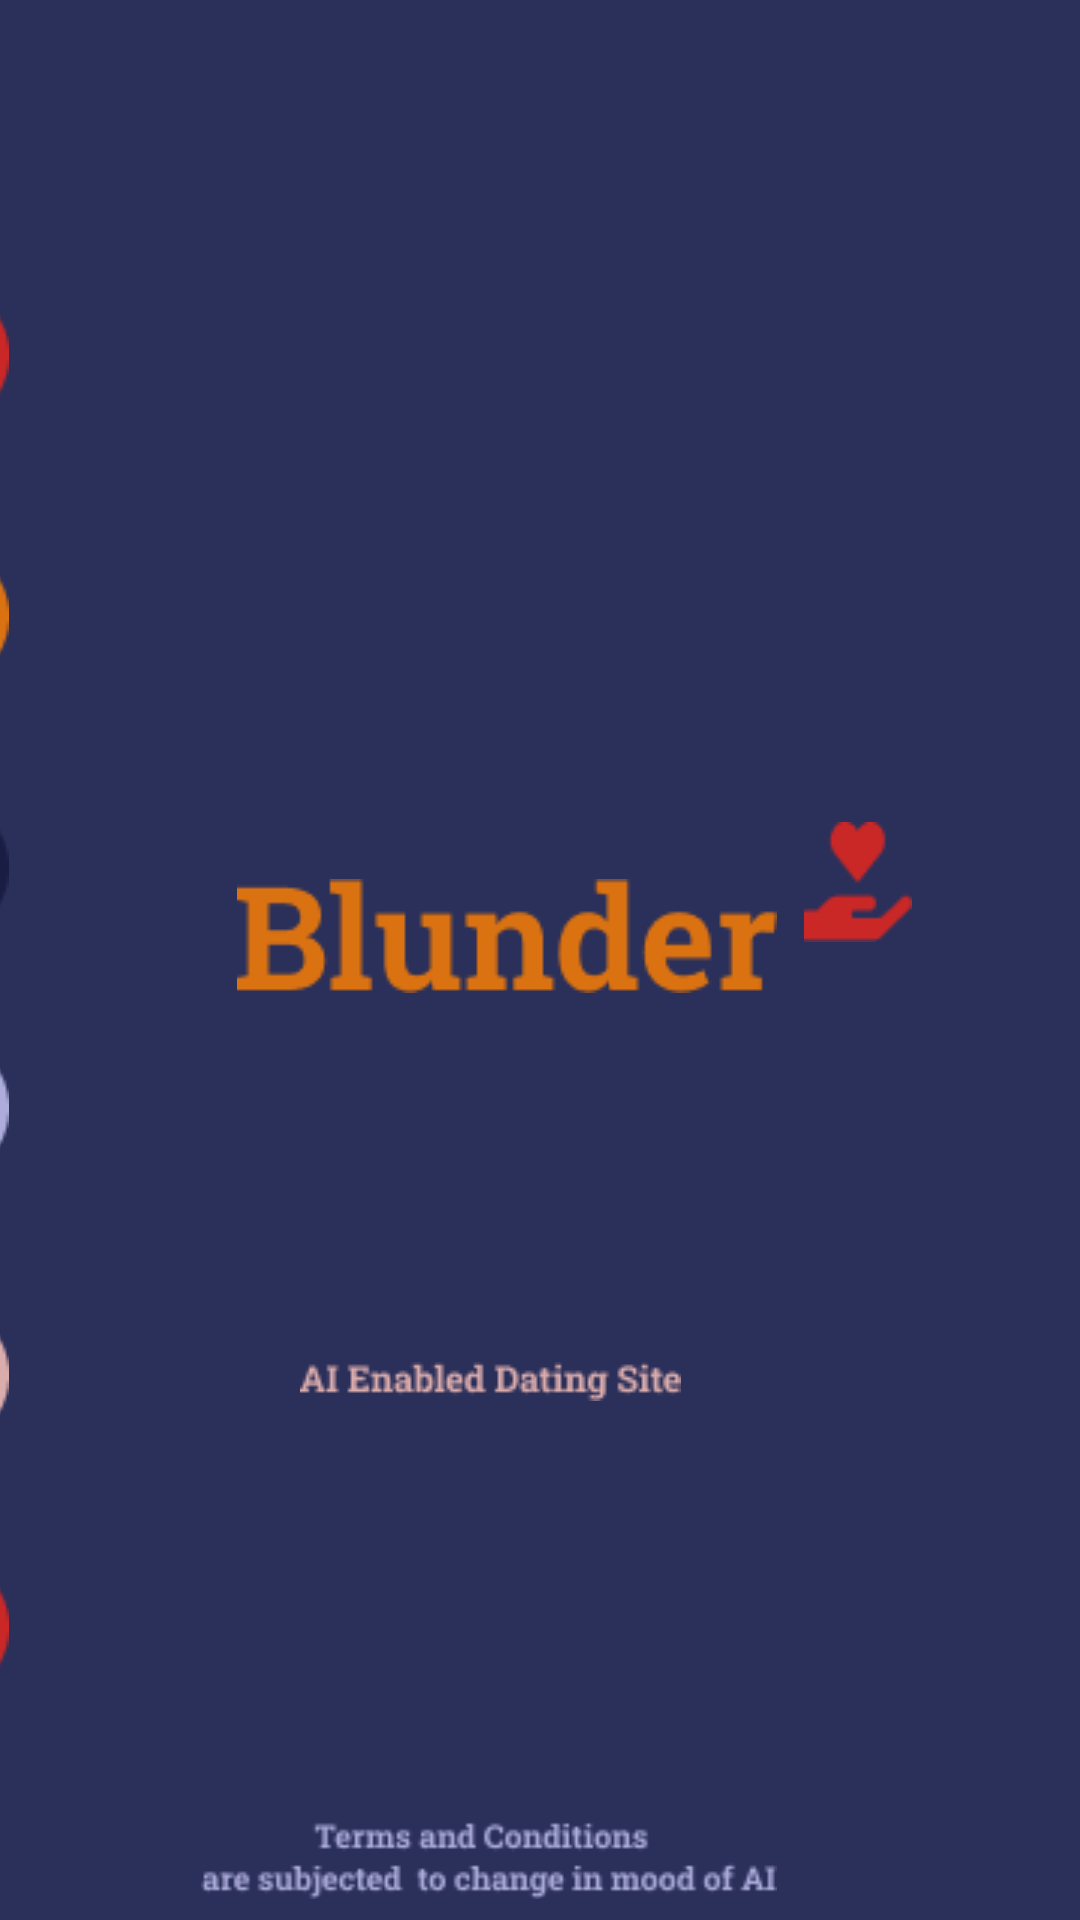

Where to tap for icons on this 1080 x 1920 app screen, as point (x, y):
hand: point (858, 882)
